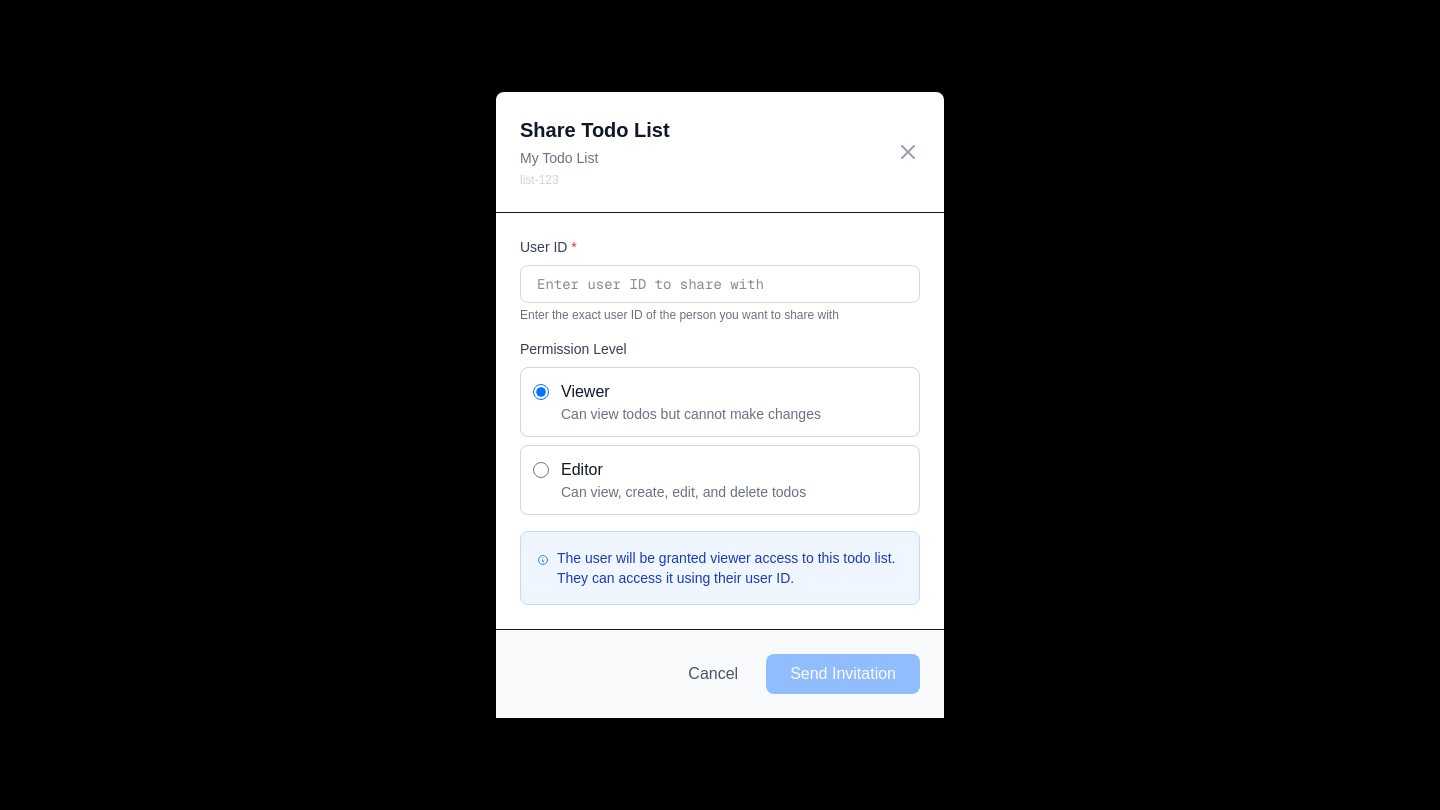
Test case: ShareModal › Form Submission › should reset form after successful submission
The width and height of the screenshot is (1440, 810).
Type "user-123" into the field with placeholder "Enter user ID to share with" at (720, 284), box [520,265,920,303]
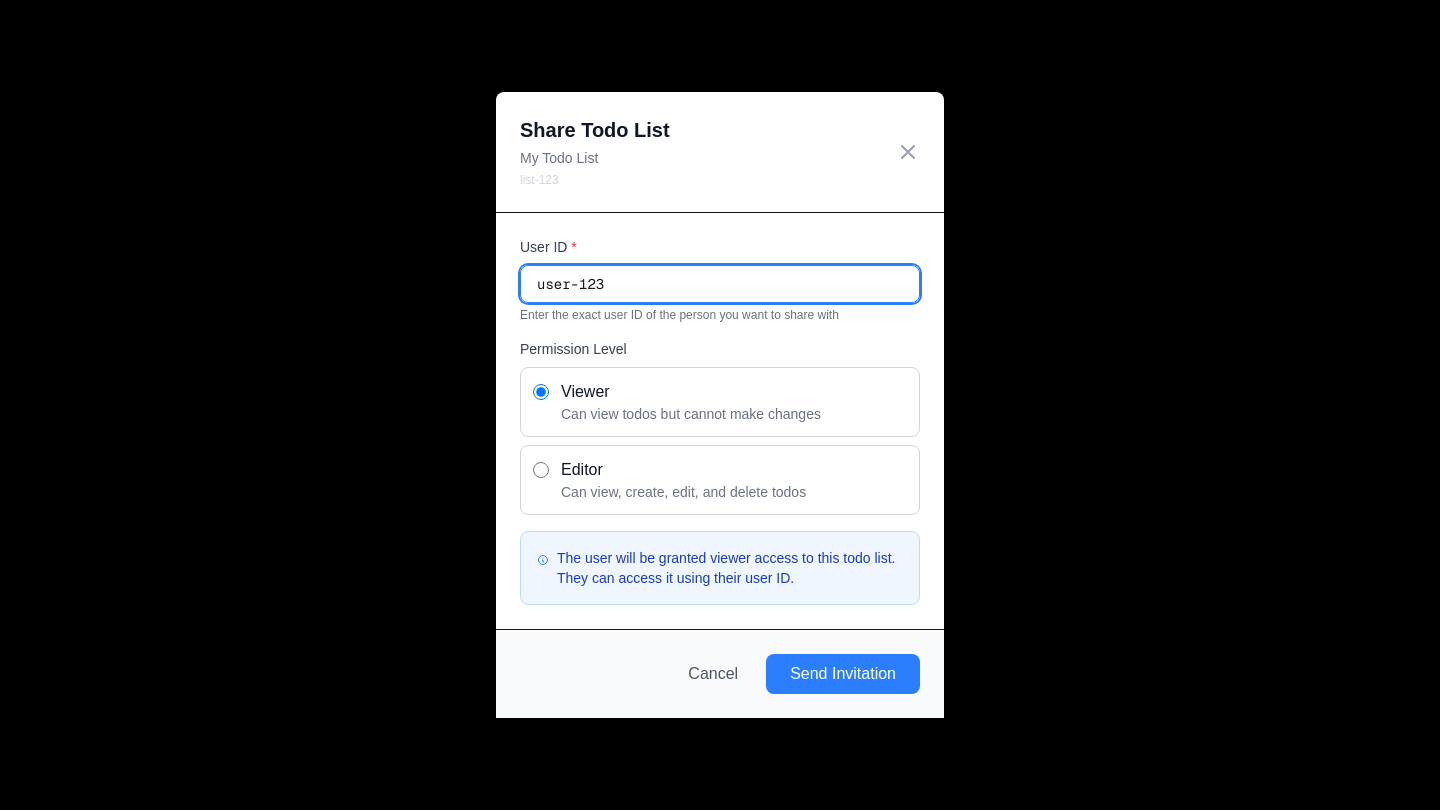
Click the radio button labelled "Editor Can view, create, edit, and delete todos" at (541, 470), box [533,462,549,478]
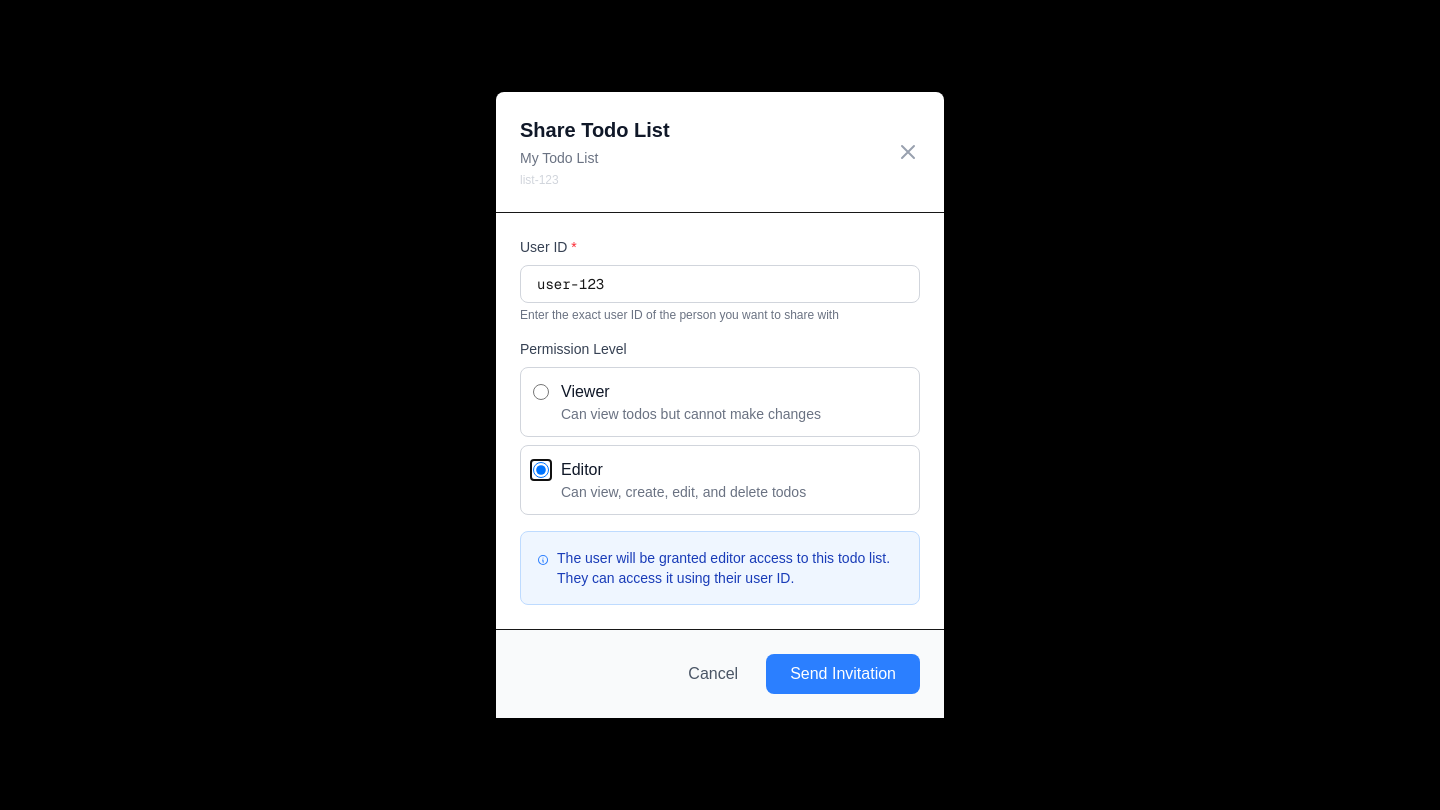
Click the button "Send Invitation" at (843, 674), box [766,654,920,694]
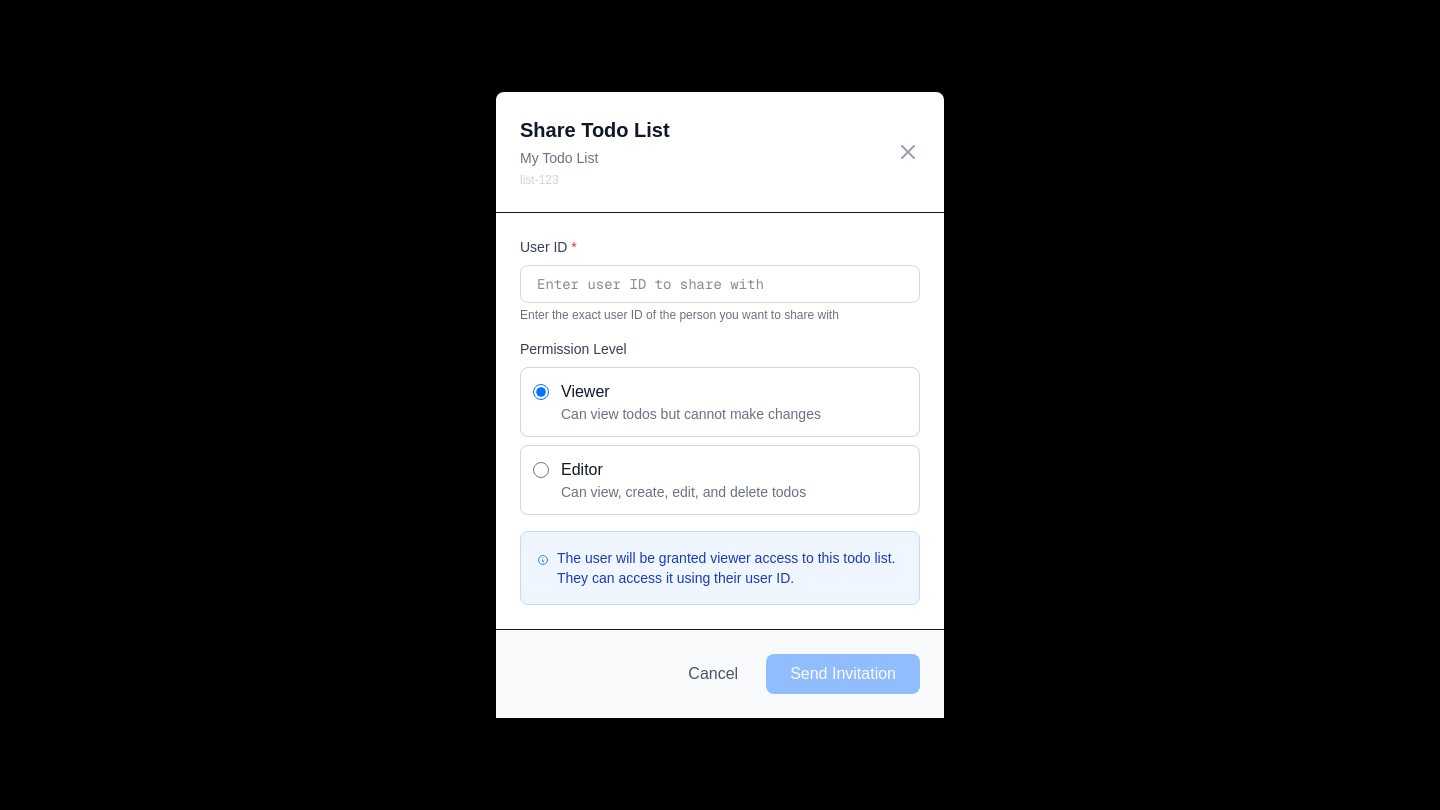
Now the field with placeholder "Enter user ID to share with" is empty, box [520,265,920,303]
Now the radio button labelled "Viewer Can view todos but cannot make changes" is checked, box [533,384,549,400]
